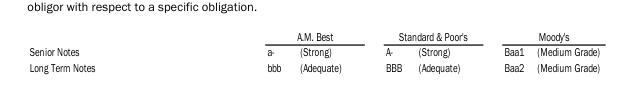table: (28, 28, 598, 73)
table column: (28, 28, 180, 73), (180, 28, 289, 73), (409, 28, 485, 73), (289, 28, 362, 73), (529, 28, 598, 73), (362, 28, 409, 73), (485, 28, 529, 73)
table column header: (28, 28, 598, 59)
table row: (28, 43, 598, 59), (28, 28, 598, 43), (28, 59, 598, 73)
table spanning cell: (28, 28, 180, 59), (180, 28, 362, 43), (362, 28, 485, 43), (485, 28, 598, 43)
